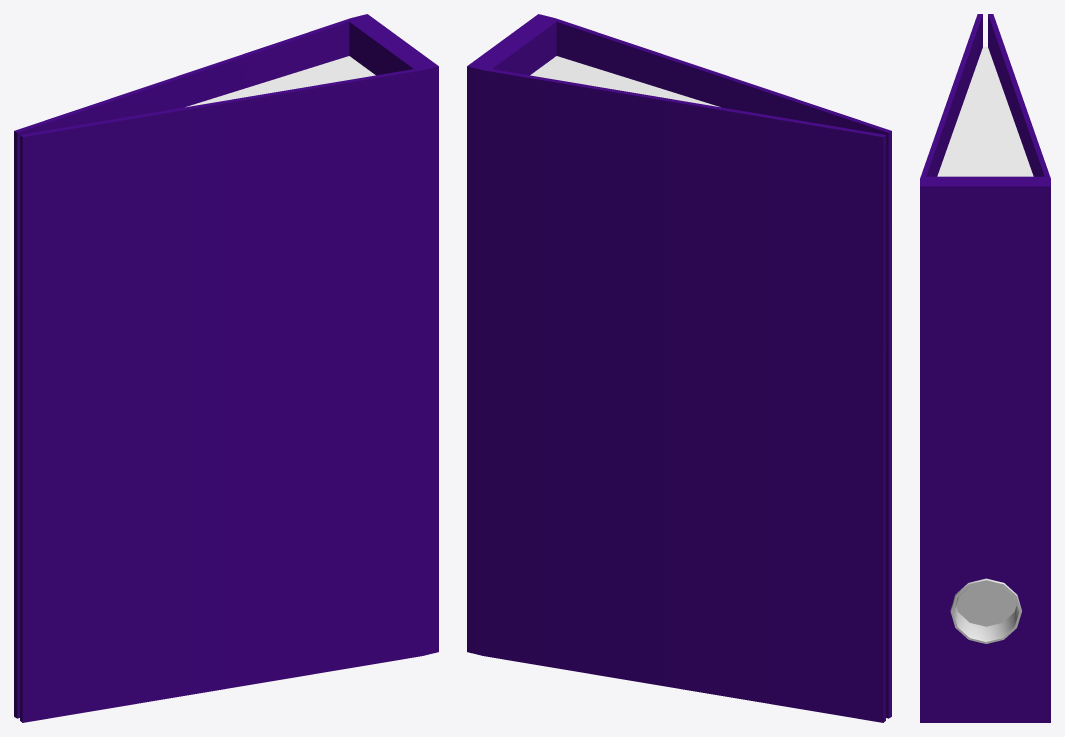
File: Carpeta10.fbx
3 renders of one model, left to right at view 1: azimuth 30°, elevation 25°; view 2: azimuth 150°, elevation 25°; view 3: azimuth 270°, elevation 25°, orthographic. The views are drawn at different scales.
Visible parts, largest first — view 1: Carpeta10; view 2: Carpeta10; view 3: Carpeta10.
Part boxes in pixels (box(x1,y1,x2,y2)): Carpeta10: box(14, 14, 438, 722); Carpeta10: box(467, 14, 891, 722); Carpeta10: box(920, 14, 1050, 722).
Size of the model in its own units: 34.66 by 50.08 by 11.07.
